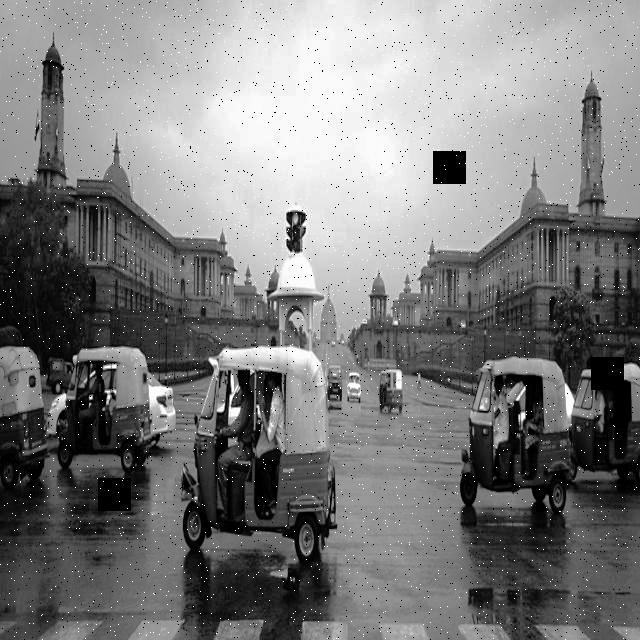Auto-Rickshaw: (173, 335, 339, 580), (454, 357, 574, 527), (70, 330, 152, 486), (1, 329, 48, 492), (374, 356, 411, 424)
